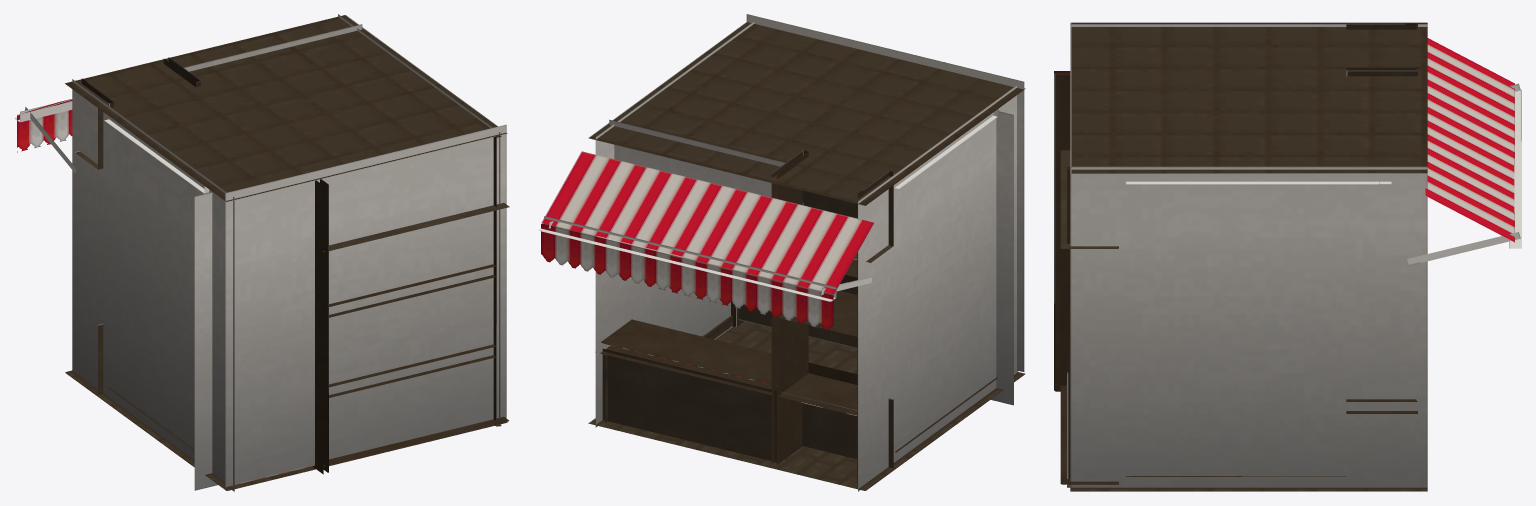
File: stall.obj
3 renders of one model, left to right at view 1: azimuth 30°, elevation 25°; view 2: azimuth 150°, elevation 25°; view 3: azimuth 270°, elevation 25°, orthographic. The views are drawn at different scales.
Parts seen in each view (by area): view 1: stall; view 2: stall; view 3: stall.
Boxes of the visible parts, x1,y1,x2,y2 form: stall: [15, 14, 509, 491]; stall: [538, 14, 1025, 491]; stall: [1054, 22, 1521, 491].
Size of the model in its own units: 3.66 by 3.62 by 4.5.
